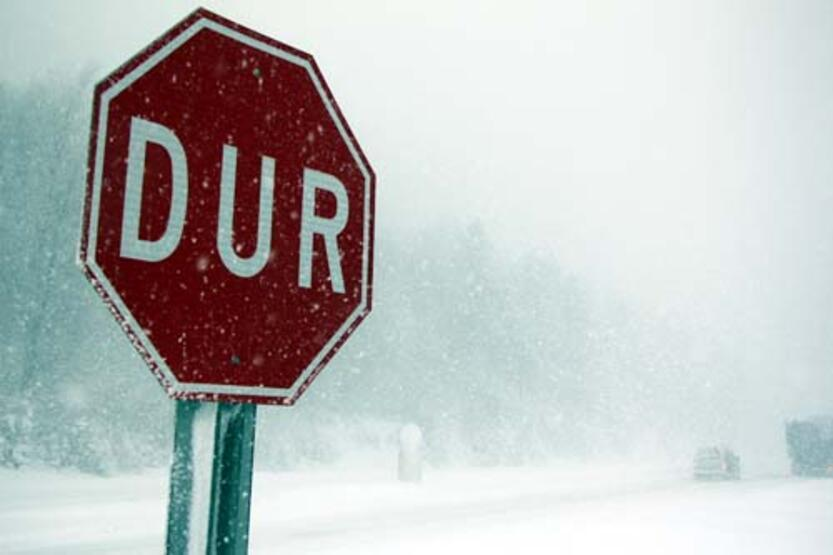dur: (74, 10, 403, 405)
